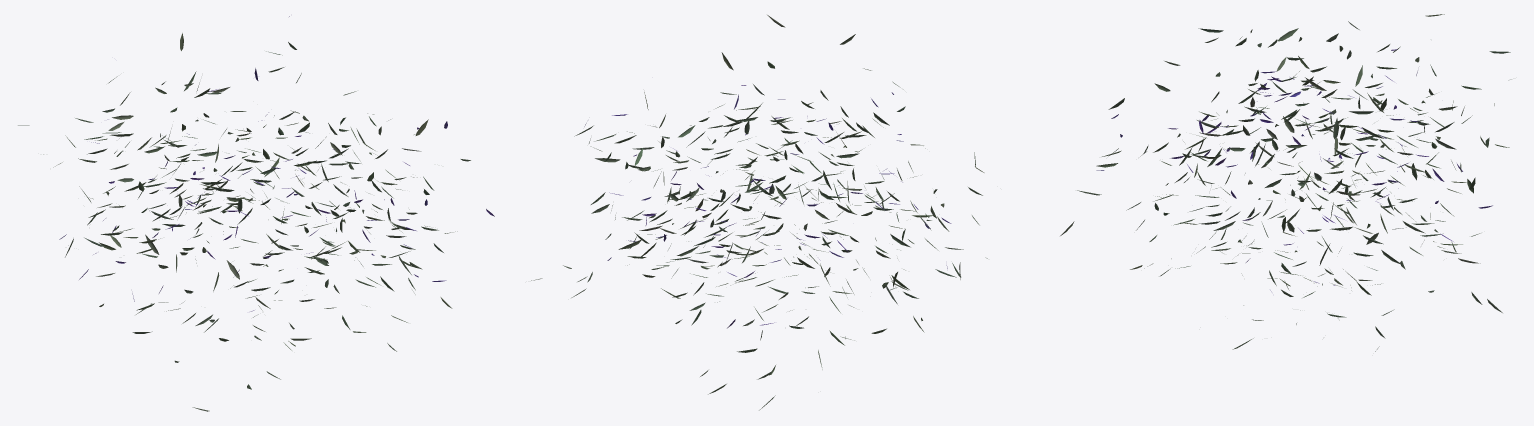
Rendered from SM_Tree_garden_flowers_0.glb.
3 renders of one model, left to right at view 1: azimuth 30°, elevation 25°; view 2: azimuth 150°, elevation 25°; view 3: azimuth 270°, elevation 25°, orthographic. The views are drawn at different scales.
Parts seen in each view (by area): view 1: SM_Tree_garden_flowers_0; view 2: SM_Tree_garden_flowers_0; view 3: SM_Tree_garden_flowers_0.
Part boxes in pixels (box(x1,y1,x2,y2)): SM_Tree_garden_flowers_0: box(18, 16, 494, 411); SM_Tree_garden_flowers_0: box(531, 15, 987, 410); SM_Tree_garden_flowers_0: box(1060, 14, 1511, 351).
Bounding box in the file's own units: 0.9292 × 0.7859 × 0.9053.
